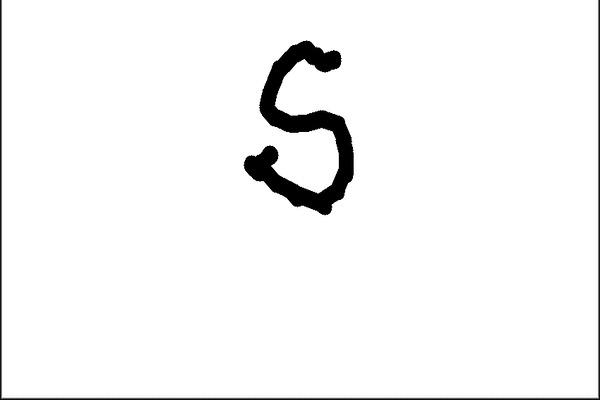S: (235, 33, 362, 223)
